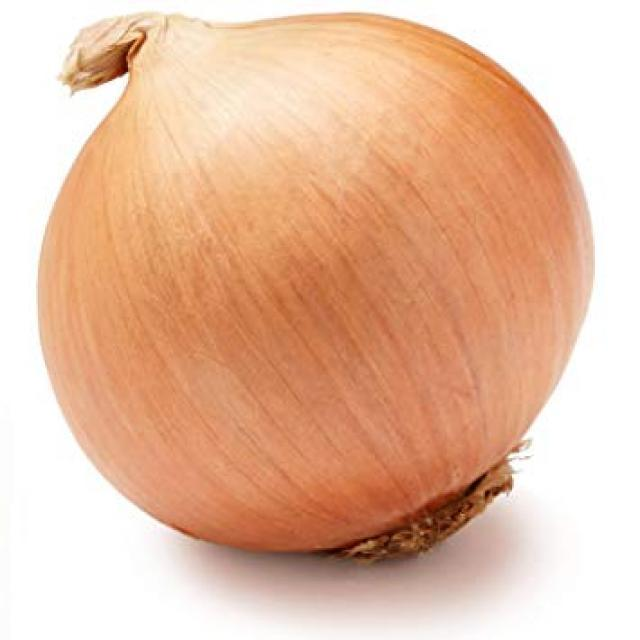onion: (24, 9, 607, 568)
